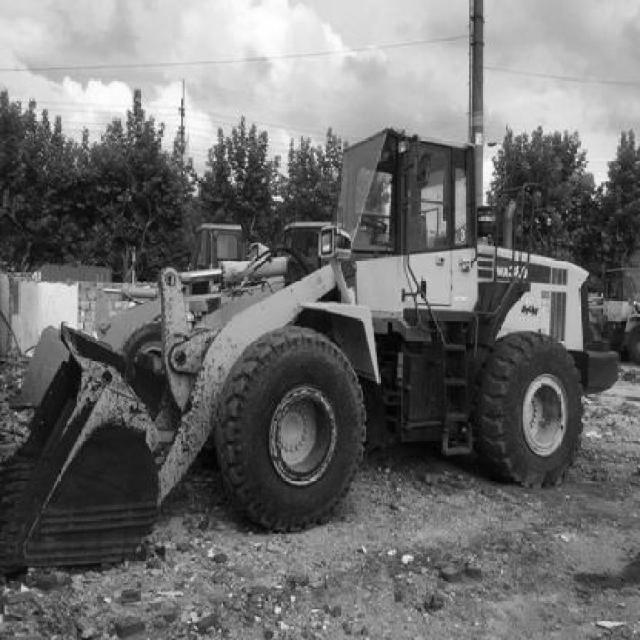Construction Equipment: (0, 127, 620, 578)
